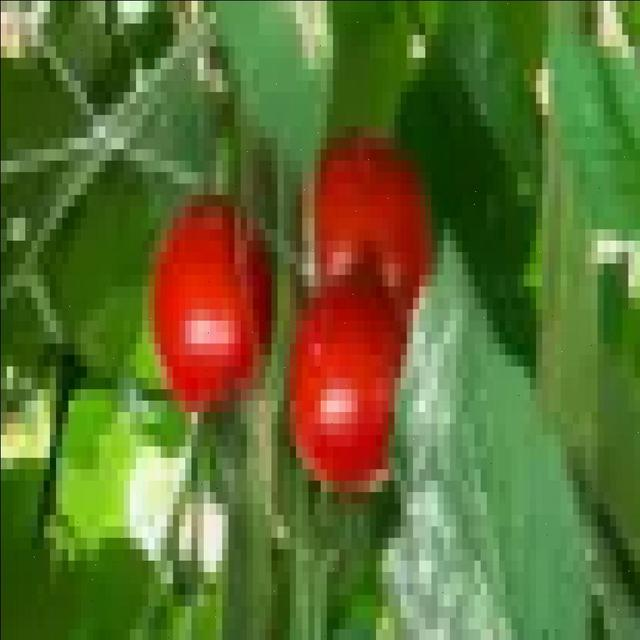Healthy Fruit: (69, 128, 236, 262)
